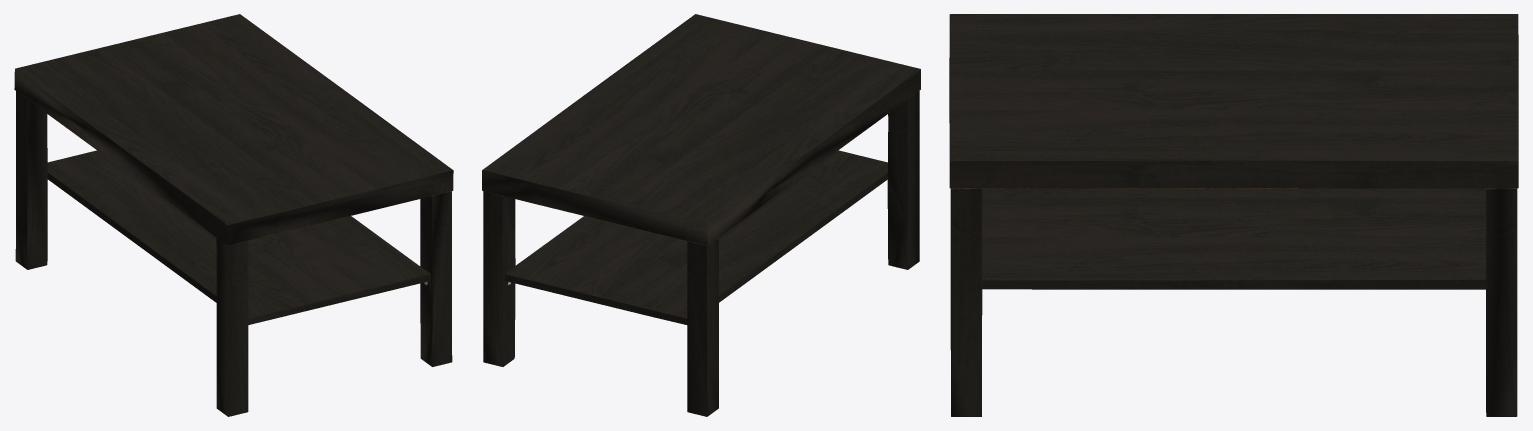
Rendered from LACK_50319029.glb.
3 renders of one model, left to right at view 1: azimuth 30°, elevation 25°; view 2: azimuth 150°, elevation 25°; view 3: azimuth 270°, elevation 25°, orthographic. The views are drawn at different scales.
Visible parts, largest first — view 1: ProcessedMeshNode; view 2: ProcessedMeshNode; view 3: ProcessedMeshNode.
Part boxes in pixels (box(x1,y1,x2,y2)): ProcessedMeshNode: box(14, 14, 453, 416); ProcessedMeshNode: box(482, 14, 920, 416); ProcessedMeshNode: box(949, 14, 1518, 416).
Bounding box in the file's own units: 0.5507 × 0.4496 × 0.9006.
Materials: 1 (1 with a texture image).
